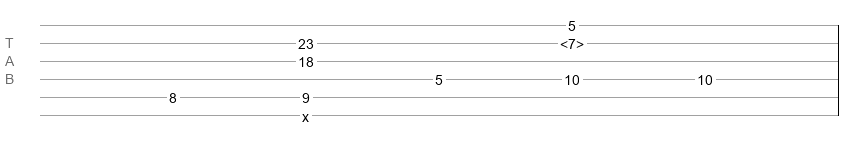10: (564, 72, 580, 82), (697, 72, 713, 82)
18: (298, 54, 314, 64)
23: (298, 36, 314, 46)
5: (435, 72, 443, 82), (568, 18, 576, 28)
8: (169, 90, 177, 100)
9: (302, 90, 310, 100)
harmonic: (560, 36, 584, 46)
x: (302, 109, 309, 117)
